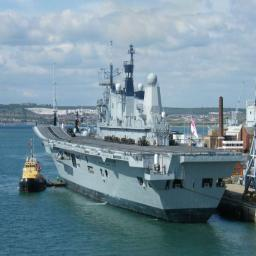Portanaves: (32, 39, 253, 226)
